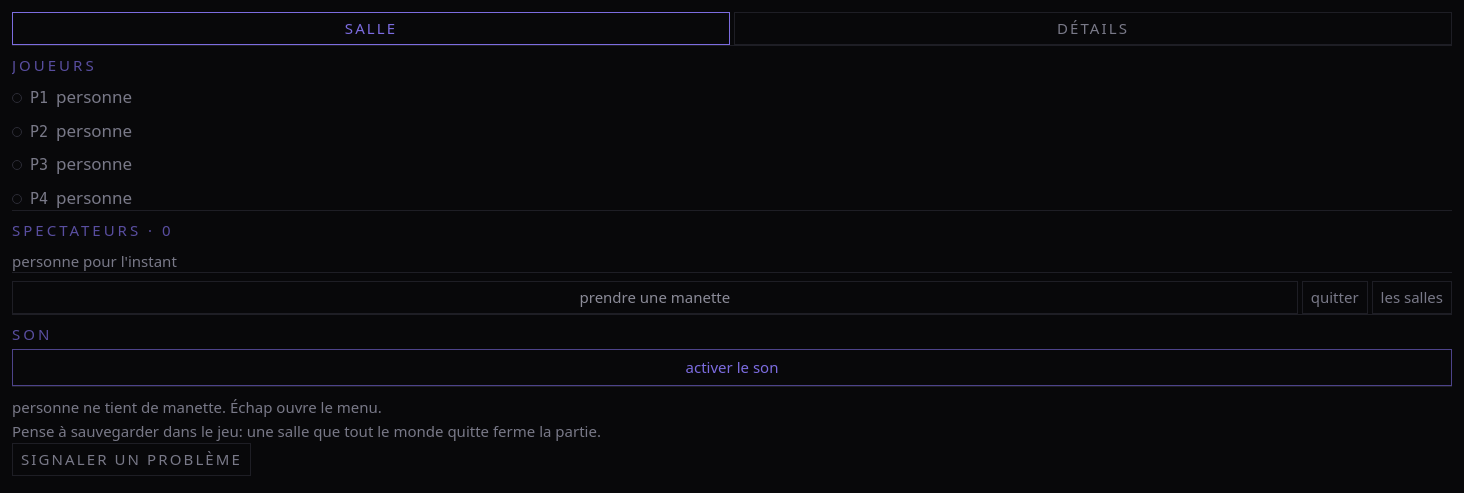
Test: le bouton « ça saccade » › pose un repère et le dit
This screenshot has width=1464, height=493.
Step 1. Click the button "signaler un problème" → (131,460), box top-left (12, 443), bottom-right (251, 476)
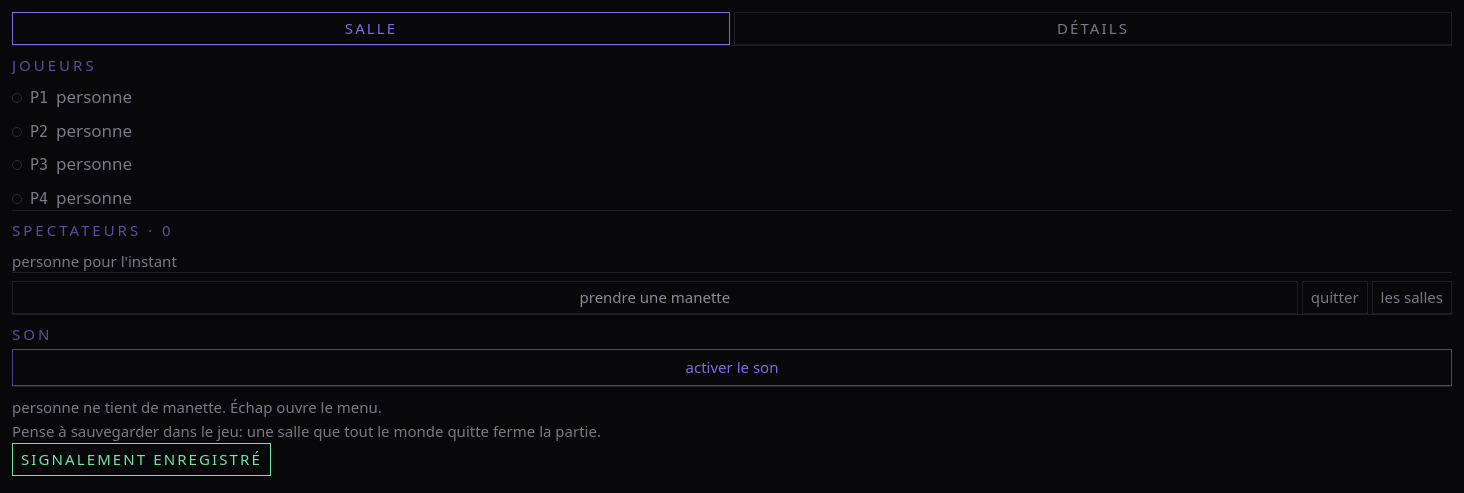
Result: the button "signalement enregistré" is shown at top-left (12, 443), bottom-right (271, 476)
